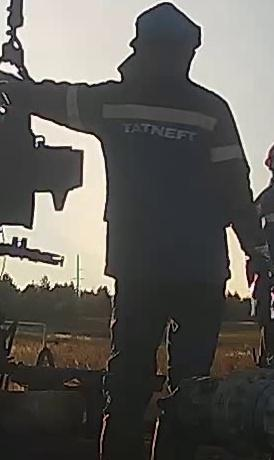gloves: (239, 241, 274, 308)
helmet: (262, 144, 274, 181)
vest: (66, 83, 238, 285)
